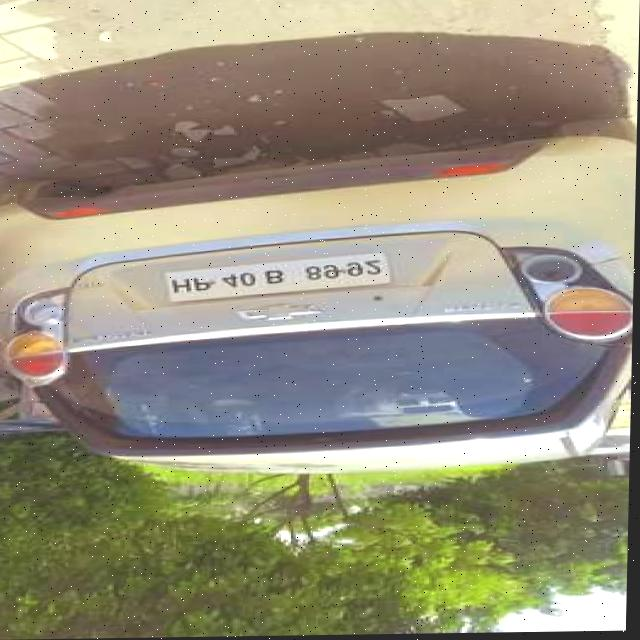plate: (164, 251, 394, 302)
